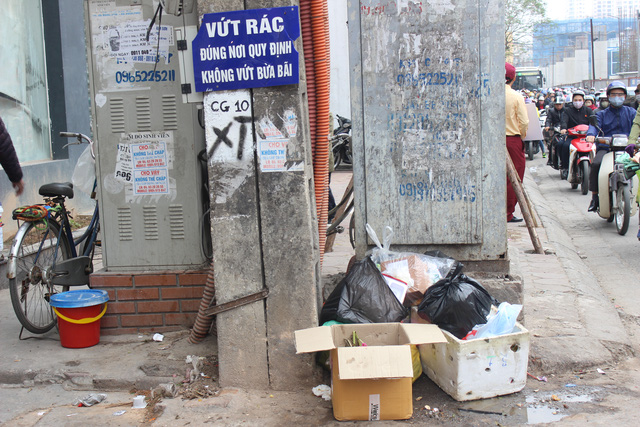plastic bag: (417, 266, 501, 338), (319, 254, 406, 322), (372, 238, 454, 301)
